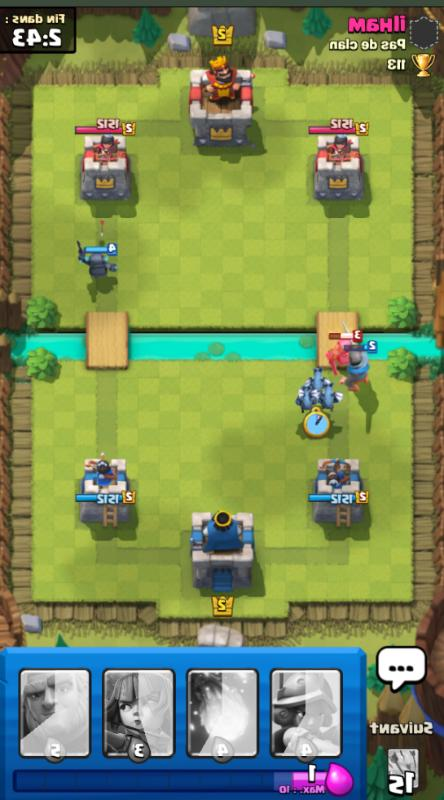chevalier: (346, 355, 367, 388)
gargouille: (320, 378, 342, 413), (297, 383, 316, 416), (306, 368, 331, 391)
mini_PEKKA: (76, 240, 118, 280), (327, 337, 356, 374)
